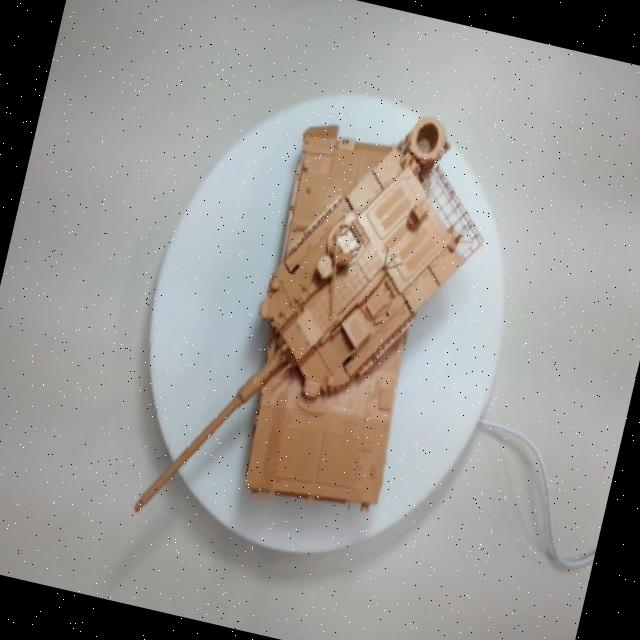korea tank: (93, 42, 548, 640)
